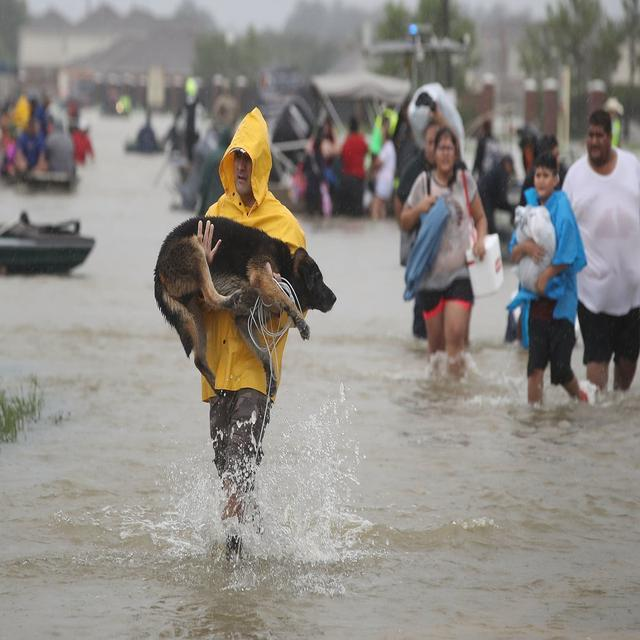Person-RiskLevel2: (145, 99, 340, 575), (547, 106, 640, 406), (505, 145, 599, 411), (397, 130, 493, 382)
